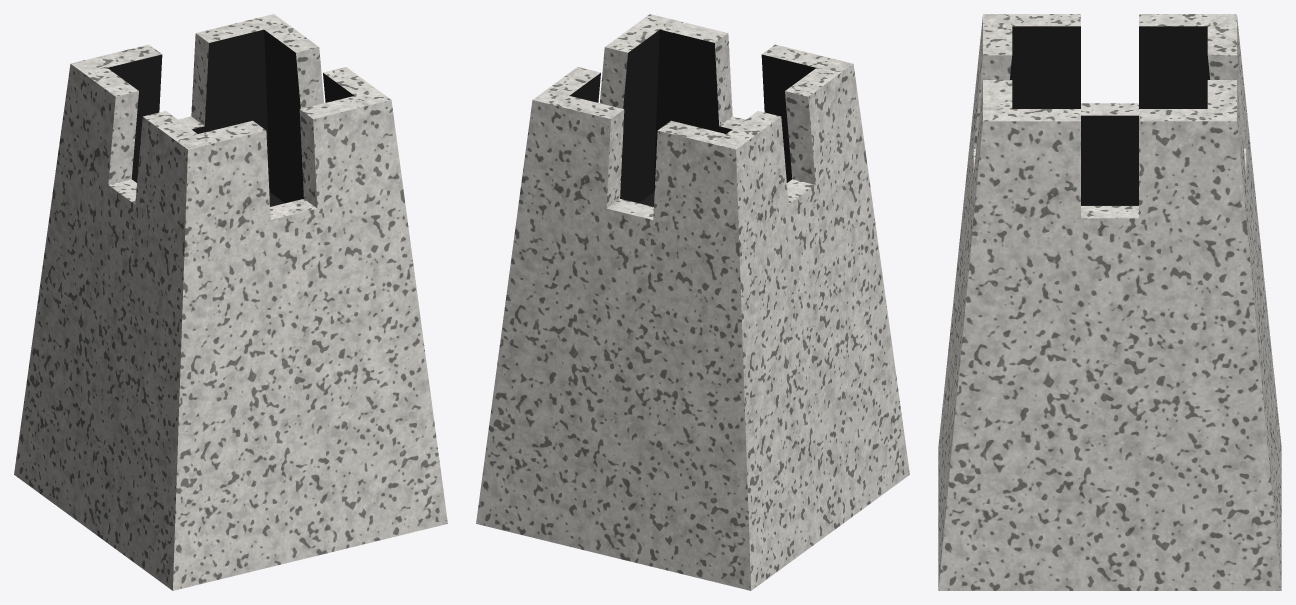
The model's file is rook-white-hd.glb.
3 views of the same model, side by side, from view 1: azimuth 30°, elevation 25°; view 2: azimuth 150°, elevation 25°; view 3: azimuth 270°, elevation 25° (orthographic). The views are drawn at different scales.
Parts seen in each view (by area): view 1: White_Rook; view 2: White_Rook; view 3: White_Rook.
Part boxes in pixels (<box>): White_Rook: <box>14,14,447,590</box>; White_Rook: <box>476,14,909,590</box>; White_Rook: <box>938,14,1281,590</box>.
Bounding box in the file's own units: 0.6828 × 0.99 × 0.6828.
Materials: 2 (1 with a texture image).
